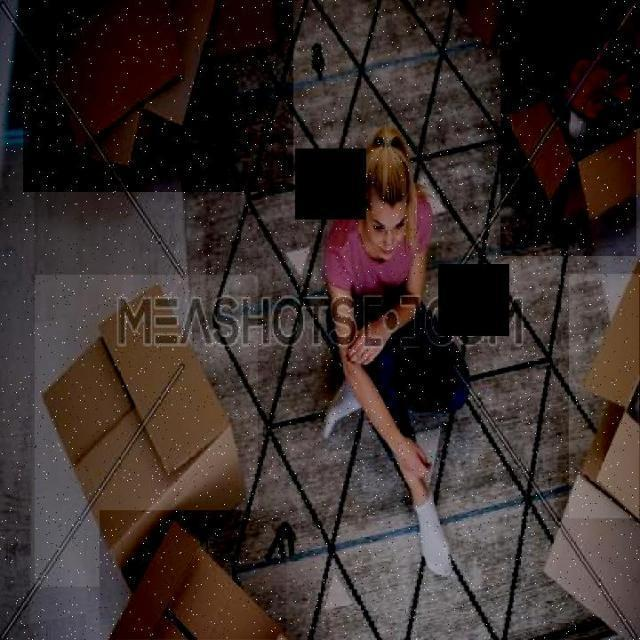box: (34, 274, 258, 586), (23, 0, 293, 192), (501, 30, 638, 256), (100, 510, 286, 639), (569, 274, 639, 518)
